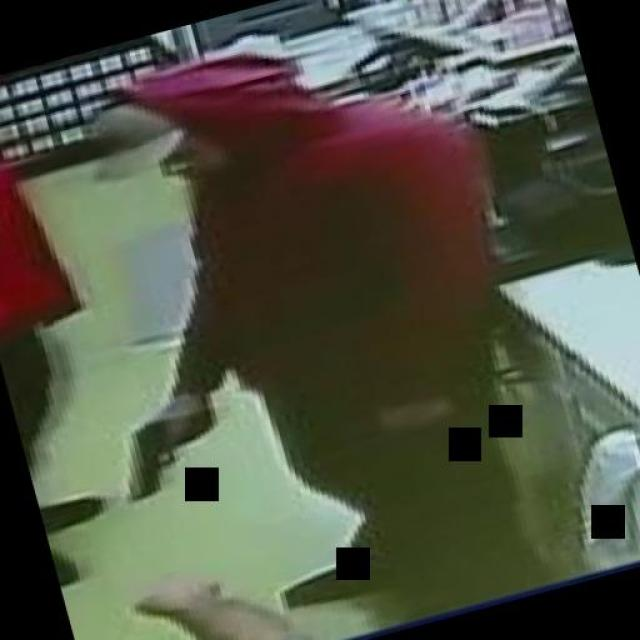gun: (102, 398, 232, 504)
